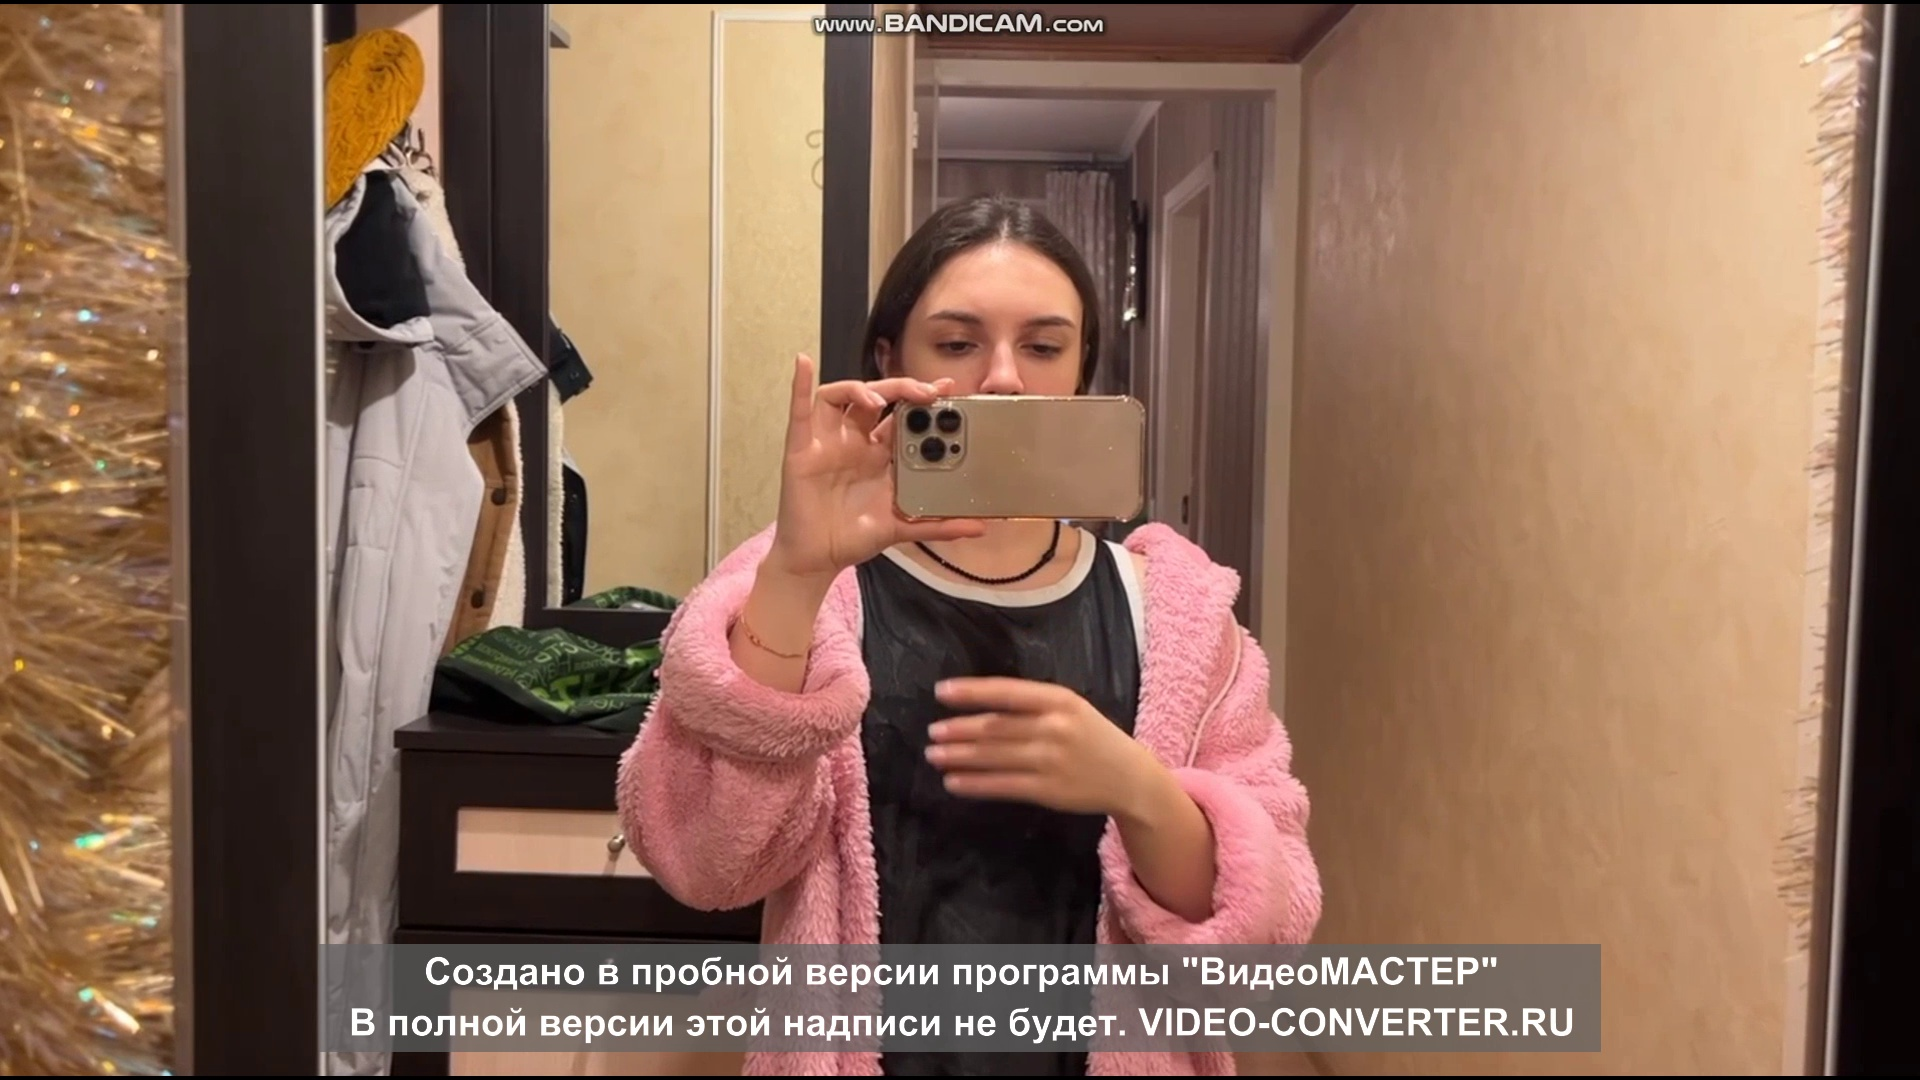Кисть: (919, 671, 1129, 819)
